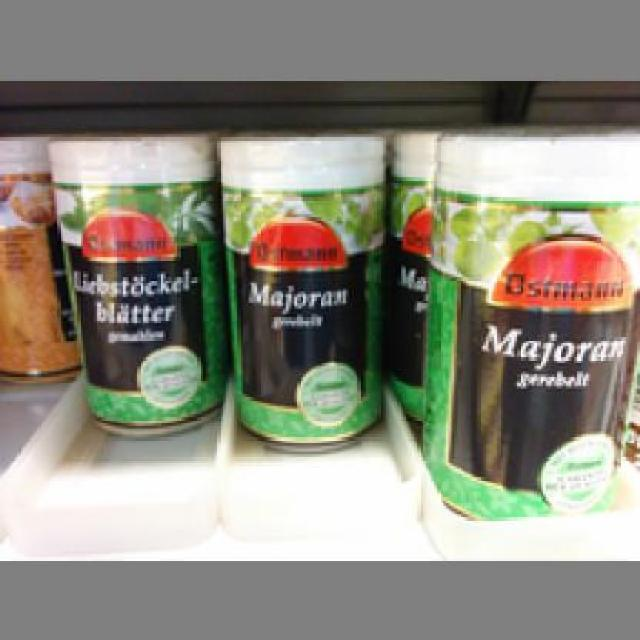Spices: (417, 125, 637, 518), (43, 132, 226, 434), (214, 132, 386, 448)
